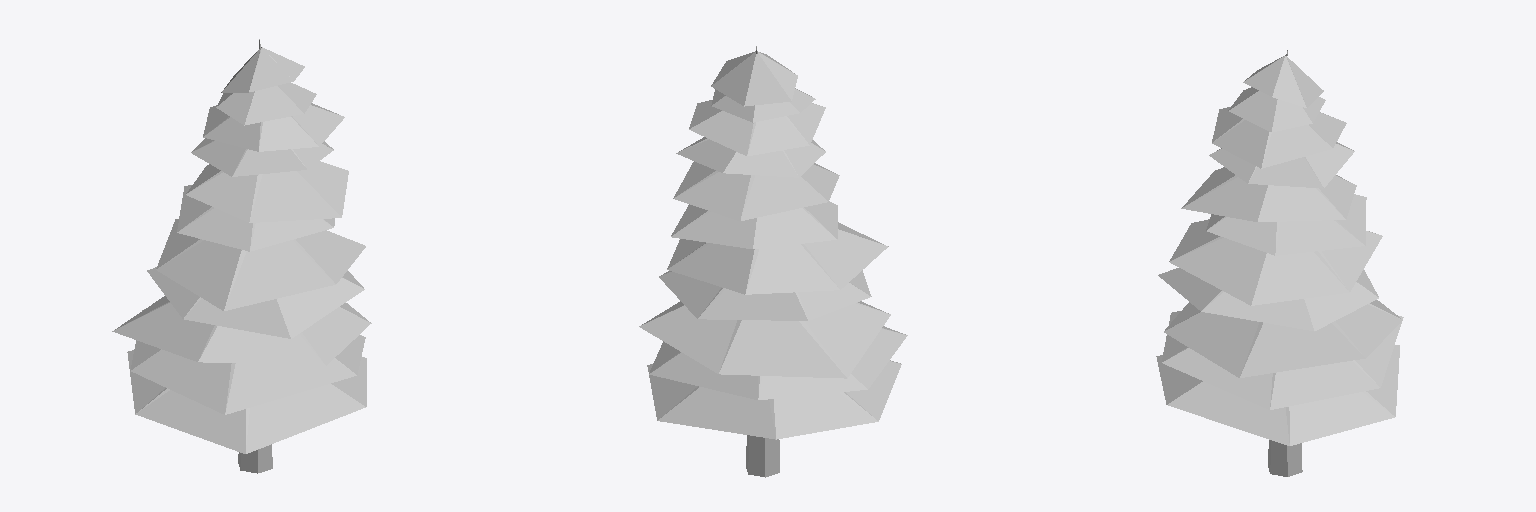
Rendered from tree11.obj.
3 views of the same model, side by side, from view 1: azimuth 30°, elevation 25°; view 2: azimuth 150°, elevation 25°; view 3: azimuth 270°, elevation 25° (orthographic).
Parts seen in each view (by area): view 1: treePine1:null_ group52; view 2: treePine1:null_ group52; view 3: treePine1:null_ group52.
Part boxes in pixels (bbox=[...]): treePine1:null_ group52: bbox=[112, 39, 371, 473]; treePine1:null_ group52: bbox=[639, 46, 907, 477]; treePine1:null_ group52: bbox=[1156, 50, 1403, 476].
Size of the model in its own units: 37.6 by 65.88 by 34.8.